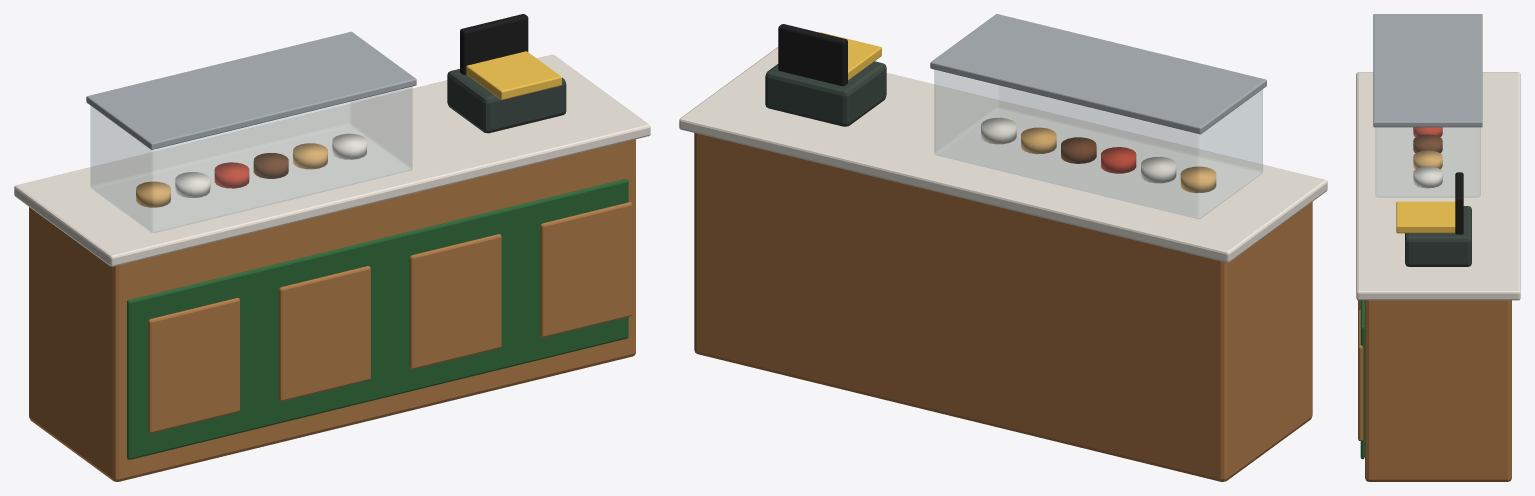
Rendered from bancone-vetrina.glb.
3 views of the same model, side by side, from view 1: azimuth 30°, elevation 25°; view 2: azimuth 150°, elevation 25°; view 3: azimuth 270°, elevation 25° (orthographic). The views are drawn at different scales.
Visible parts, largest first — view 1: Cube, Cube.001, Cube.002, Cube.010, Cube.011, Cube.005, Cube.006, Cube.004, Cube.003, Cube.007, Cube.009, Cube.008 (+6 smaller); view 2: Cube, Cube.001, Cube.010, Cube.011, Cube.007, Cube.008, Cube.009, Cylinder, Cylinder.002, Cylinder.004, Cylinder.005, Cylinder.003 (+1 smaller); view 3: Cube, Cube.001, Cube.011, Cube.010, Cube.007, Cube.009, Cube.006, Cylinder.005, Cube.008, Cube.002, Cylinder.003, Cylinder.004 (+1 smaller).
Part boxes in pixels (box(x1,y1,x2,y2)): Cube: box(29, 139, 635, 481); Cube.001: box(14, 54, 650, 266); Cube.002: box(127, 179, 628, 459); Cube.010: box(90, 87, 412, 232); Cube.011: box(86, 31, 416, 149); Cube.005: box(409, 234, 501, 369); Cube.006: box(540, 202, 632, 337); Cube.004: box(278, 266, 370, 401); Cube.003: box(148, 298, 239, 433); Cube.007: box(447, 69, 566, 133); Cube.009: box(466, 51, 561, 99); Cube.008: box(460, 14, 528, 74); Cube: box(694, 133, 1312, 481); Cube.001: box(679, 47, 1327, 262); Cube.010: box(934, 70, 1262, 218); Cube.011: box(930, 14, 1266, 134); Cube.007: box(765, 61, 886, 126); Cube.008: box(778, 24, 847, 86); Cube.009: box(820, 32, 881, 80); Cylinder: box(1180, 166, 1216, 193); Cylinder.002: box(1101, 147, 1136, 173); Cylinder.004: box(1021, 127, 1056, 154); Cylinder.005: box(981, 117, 1016, 144); Cylinder.003: box(1061, 137, 1096, 163); Cube: box(1365, 300, 1511, 481); Cube.001: box(1356, 72, 1520, 300); Cube.011: box(1373, 14, 1482, 127); Cube.010: box(1375, 127, 1480, 197); Cube.007: box(1405, 206, 1471, 266); Cube.009: box(1396, 201, 1455, 233); Cube.006: box(1358, 310, 1363, 440); Cylinder.005: box(1413, 166, 1442, 188); Cube.008: box(1455, 172, 1463, 234); Cube.002: box(1360, 300, 1364, 459); Cylinder.003: box(1413, 134, 1442, 153); Cylinder.004: box(1413, 150, 1442, 169).
Bounding box in the file's own units: 2.48 × 1.43 × 0.78.
